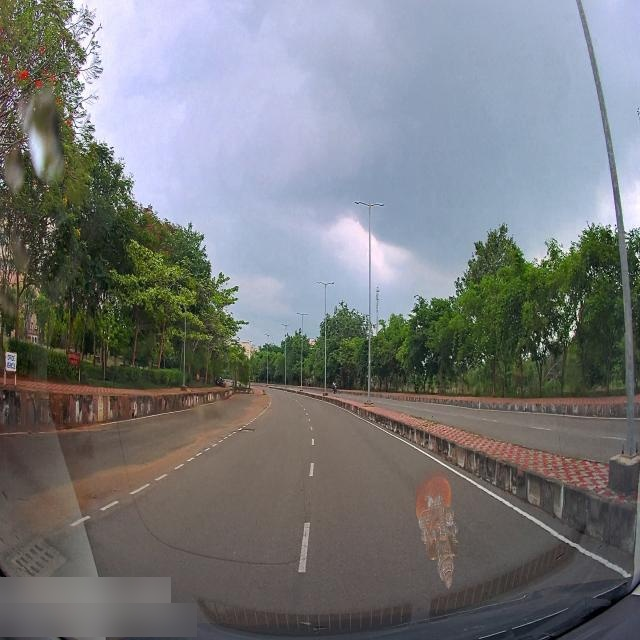pothole: (238, 421, 256, 438)
